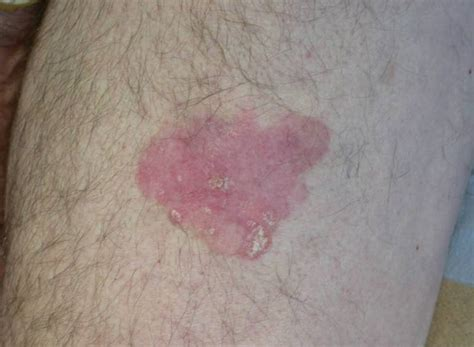Bowen: (142, 96, 324, 267)
